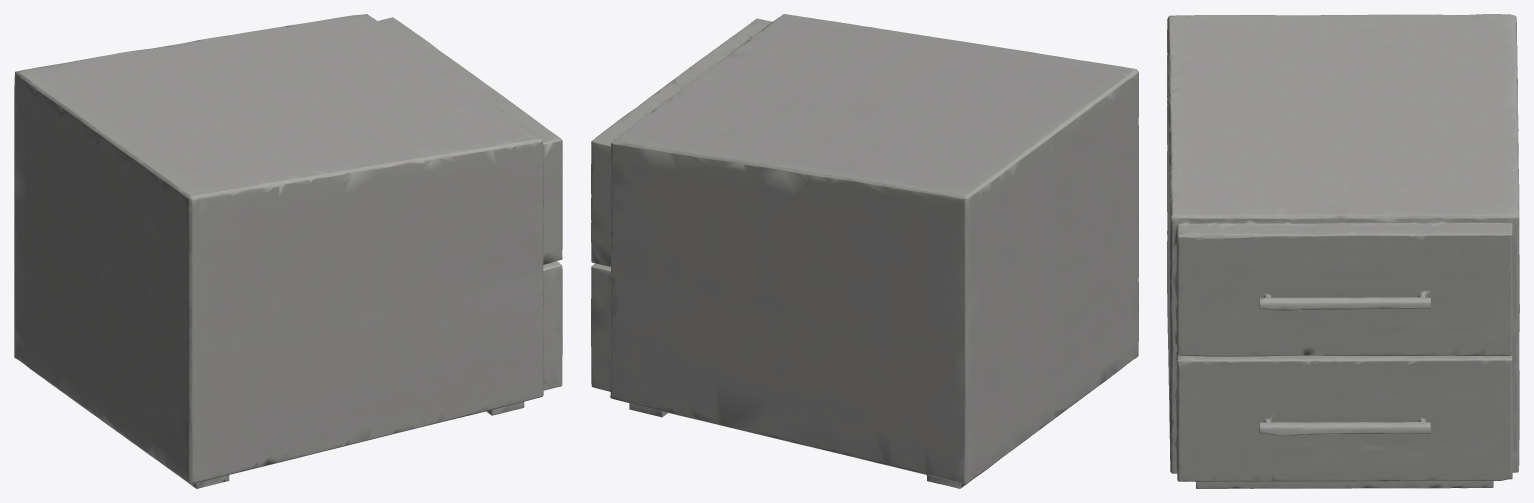
Rendered from caravanafurniture-com-products-whitewash-oak-contemporary-ni-716c82.glb.
The picture shows the model from 3 angles, left to right: view 1: azimuth 30°, elevation 25°; view 2: azimuth 150°, elevation 25°; view 3: azimuth 270°, elevation 25°; orthographic projection.
Parts seen in each view (by area): view 1: tripo_node_bb5c6861-6389-4791-96a2-6b13bc8aa4ef; view 2: tripo_node_bb5c6861-6389-4791-96a2-6b13bc8aa4ef; view 3: tripo_node_bb5c6861-6389-4791-96a2-6b13bc8aa4ef.
Part boxes in pixels (<box>): tripo_node_bb5c6861-6389-4791-96a2-6b13bc8aa4ef: <box>14,14,562,488</box>; tripo_node_bb5c6861-6389-4791-96a2-6b13bc8aa4ef: <box>591,14,1138,488</box>; tripo_node_bb5c6861-6389-4791-96a2-6b13bc8aa4ef: <box>1167,14,1519,488</box>.
Bounding box in the file's own units: 1 × 0.7398 × 0.7743.
Materials: 1 (1 with a texture image).
